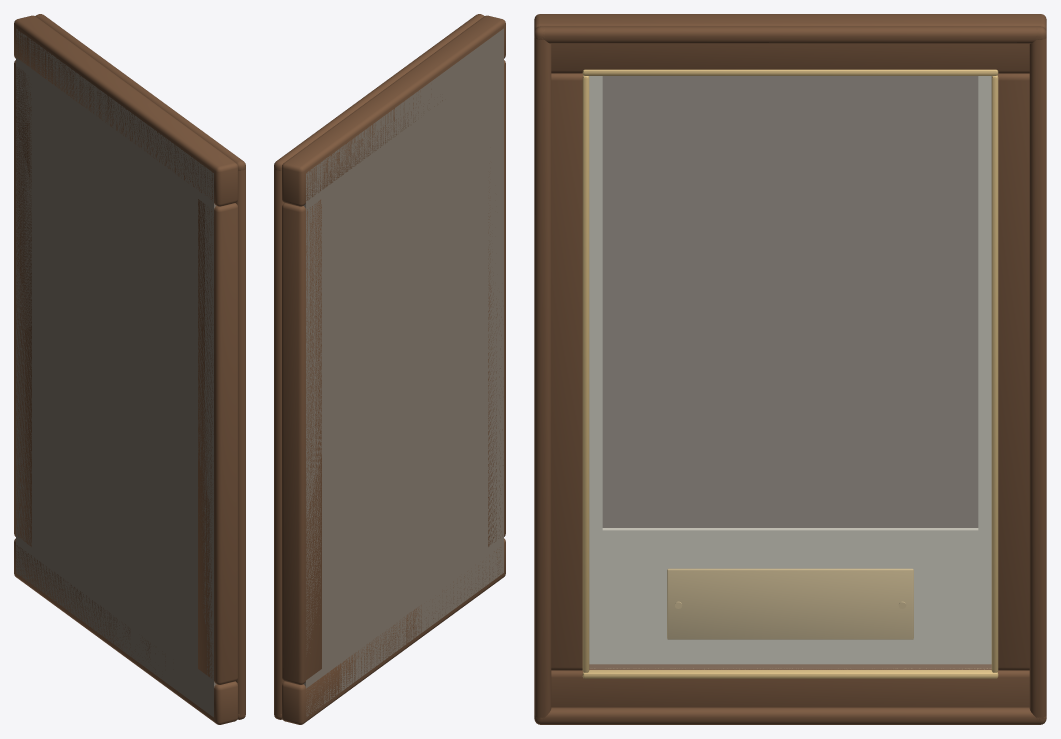
Rendered from portrait_frame.glb.
The picture shows the model from 3 angles, left to right: view 1: azimuth 30°, elevation 25°; view 2: azimuth 150°, elevation 25°; view 3: azimuth 270°, elevation 25°; orthographic projection. The views are drawn at different scales.
Parts seen in each view (by area): view 1: PortraitFrame; view 2: PortraitFrame; view 3: PortraitFrame, Glass, Plate.
Part boxes in pixels (x1=…): PortraitFrame: x1=14, y1=14, x2=245, y2=724; PortraitFrame: x1=274, y1=14, x2=505, y2=724; PortraitFrame: x1=534, y1=14, x2=1046, y2=724; Glass: x1=589, y1=76, x2=991, y2=669; Plate: x1=667, y1=568, x2=913, y2=639.
Bounding box in the file's own units: 0.046 × 0.81 × 0.54.
